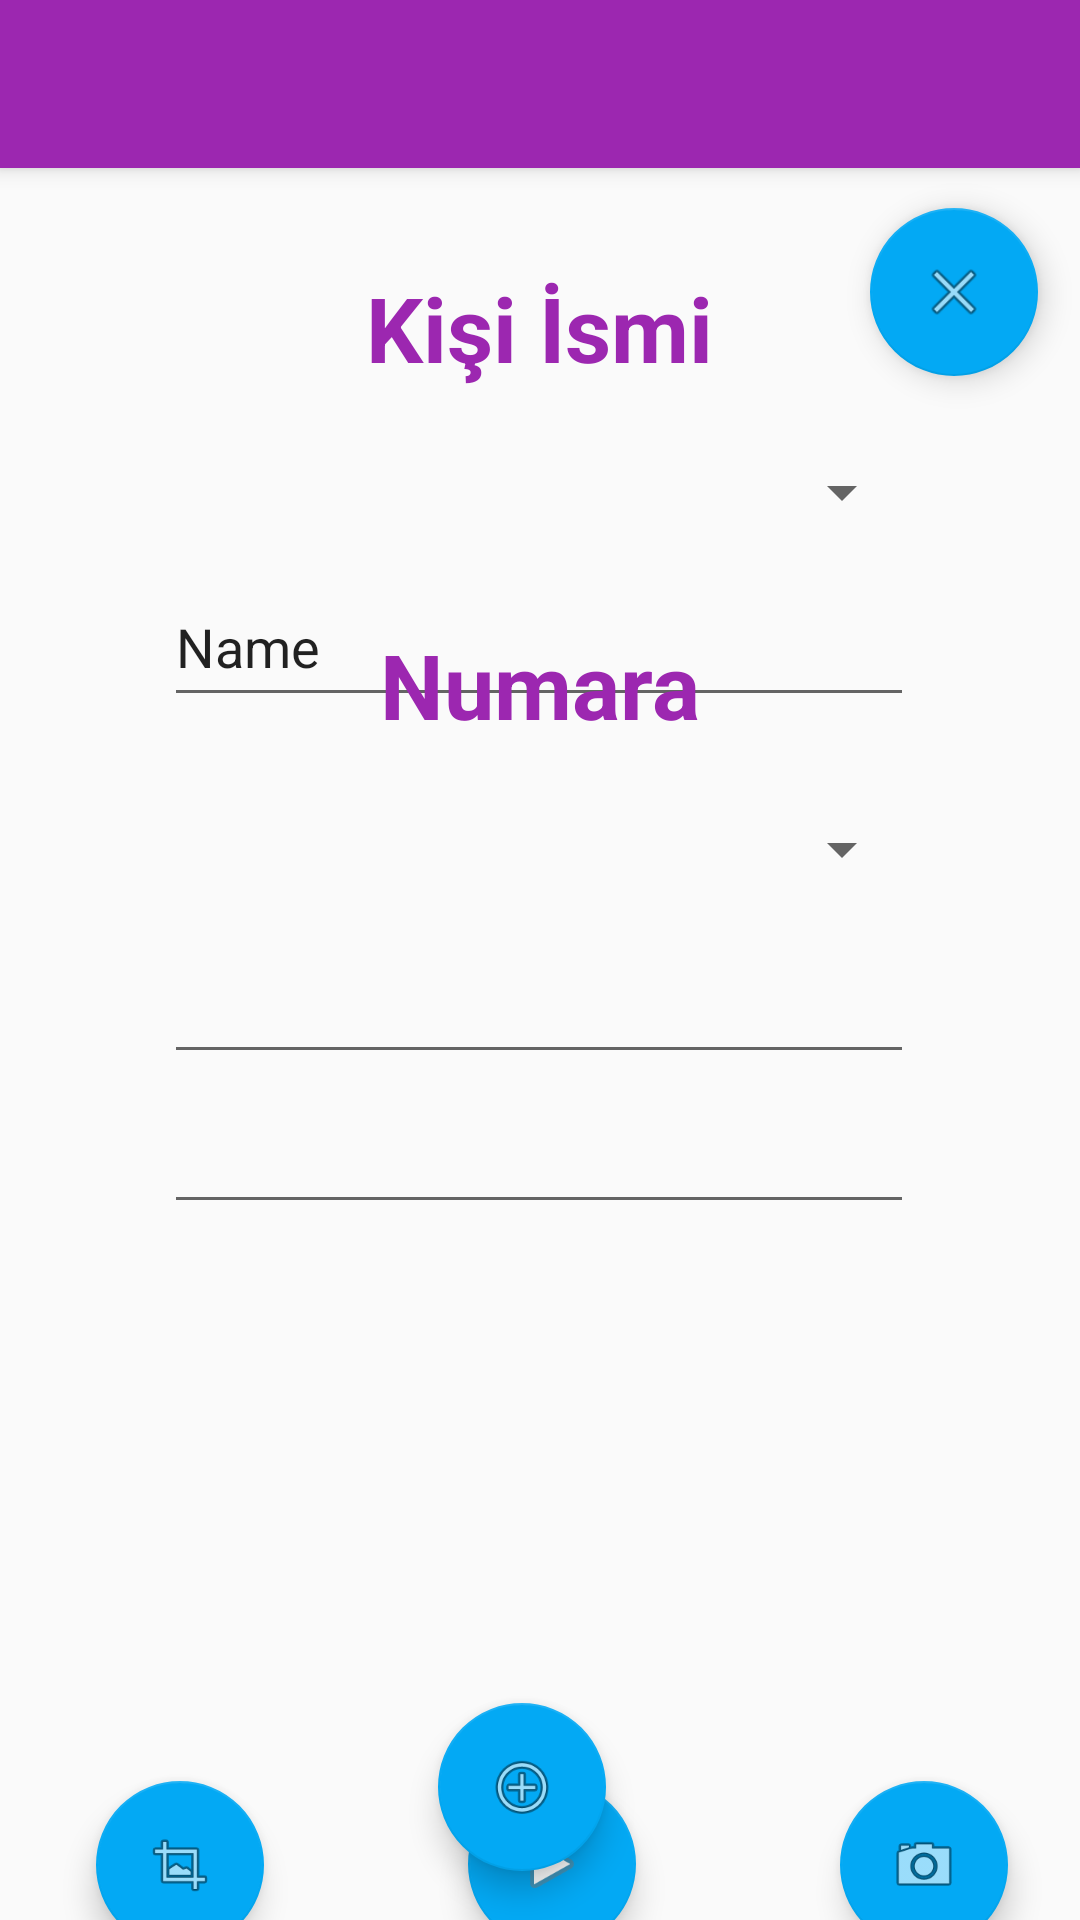

Where to tap for icons on this 1080 x 1920 app screen, as [x,y]:
add: [522,1787]
close clear cancel: [954,292]
